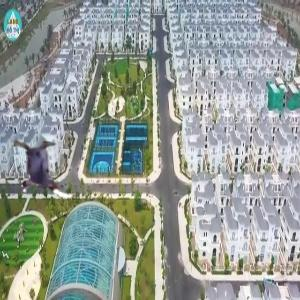drone: (2, 128, 83, 209)
